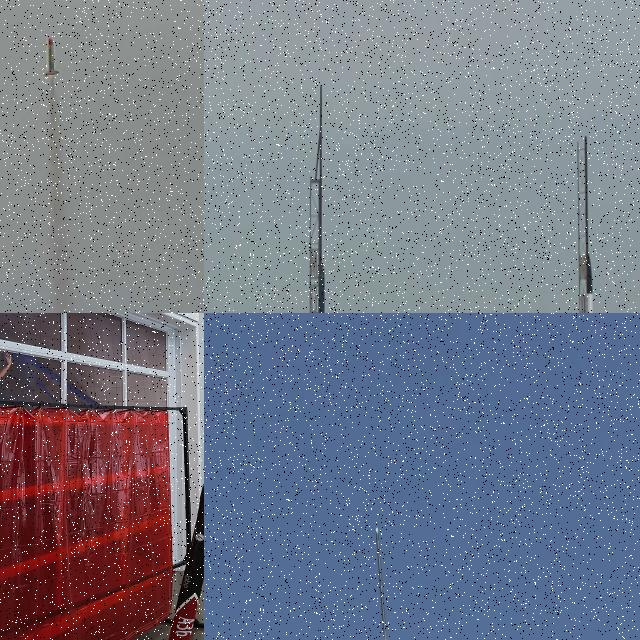Rocket: (169, 484, 204, 640), (374, 525, 391, 640), (580, 251, 604, 313), (313, 260, 331, 313), (44, 37, 59, 77)
